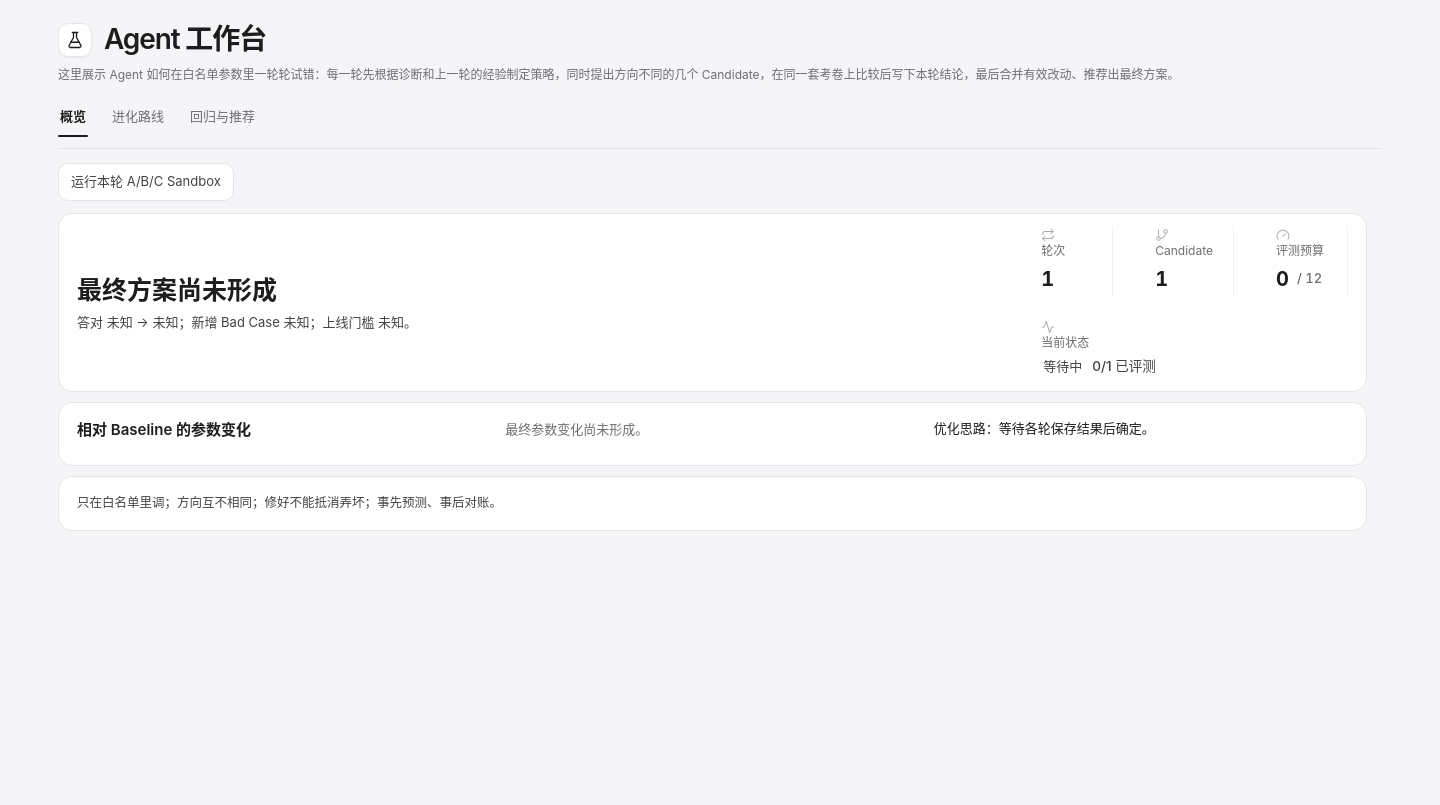
it: does not promise automatic continuation for permission or identity failures
Step 1. Click the button "进化路线" → {"x": 138, "y": 116}, box top-left (110, 96), bottom-right (166, 136)
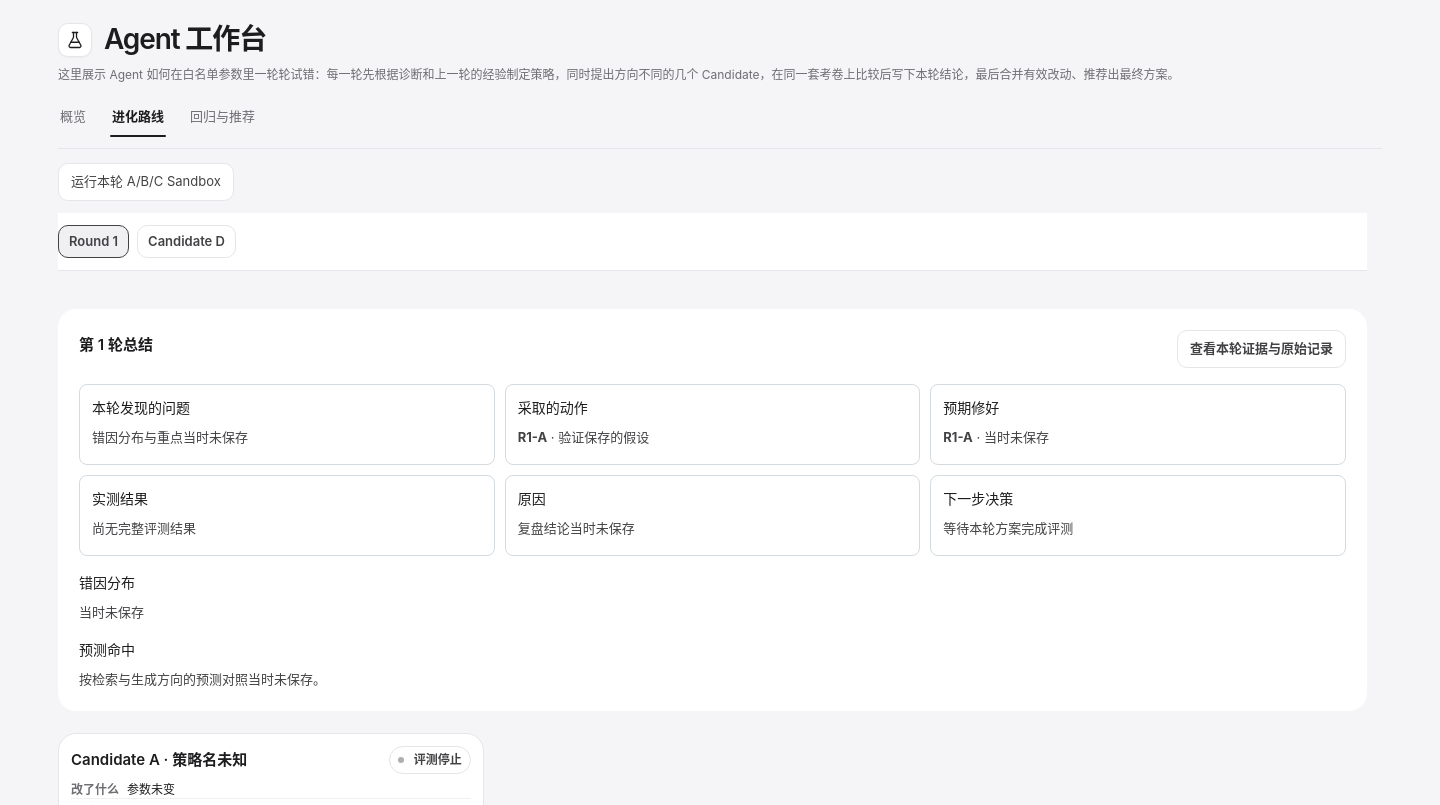
Expected: the text with class "badge" reads "评测停止", top-left (414, 752), bottom-right (462, 767)
